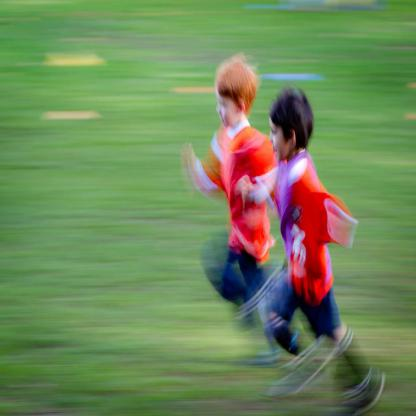face: (269, 116, 291, 163), (216, 88, 239, 127)
